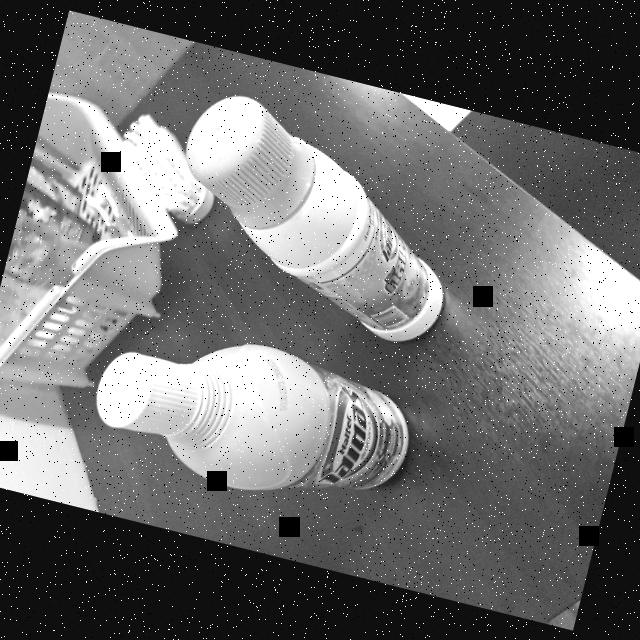chemical_plastic_bottle: (148, 84, 486, 360), (72, 301, 430, 536)
